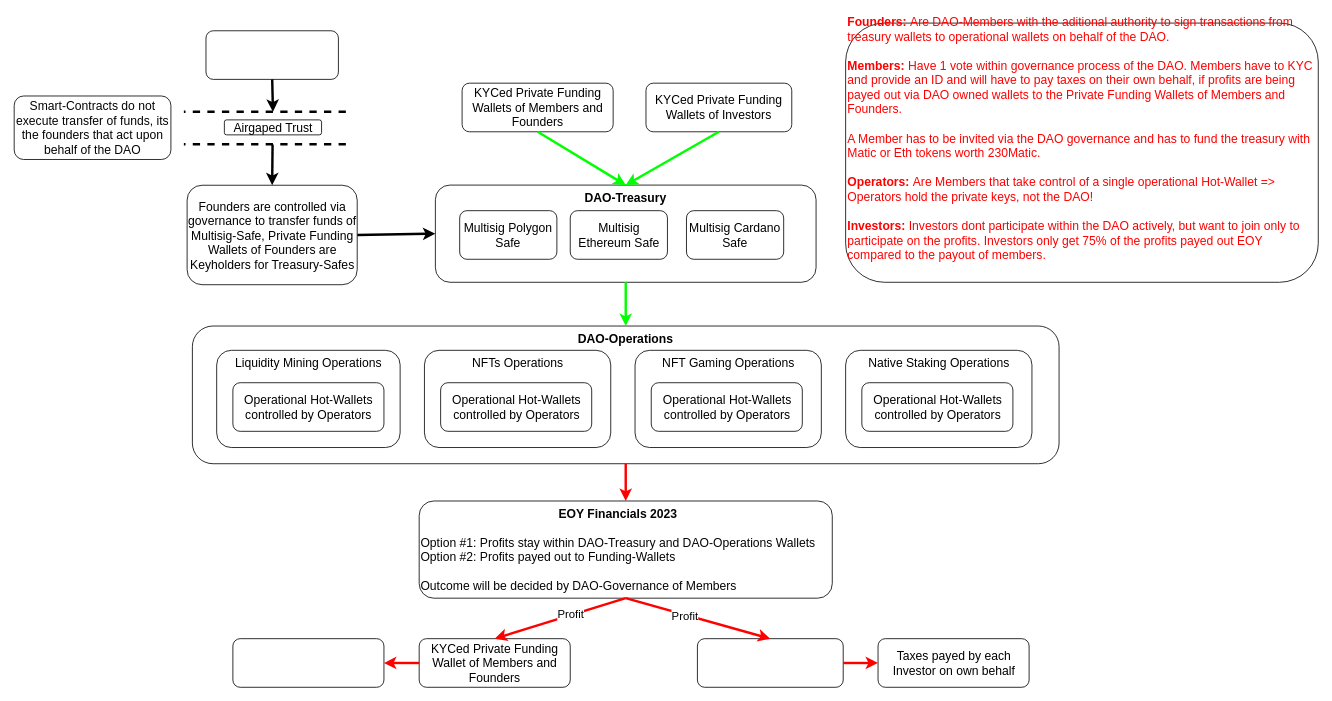
The diagram is 1332 pixels wide and 701 high, and some of its shapes have lost their labels. The shapes that lost their labels are listed below. From the top down, each one's centre as x and y in pixels, then its label:
the point at 271,54: DAO-Governance; 1 Vote per Memeber
the point at 308,662: Taxes payed by each Member on own behalf
the point at 770,662: KYCed Private Funding Wallet of Investors
